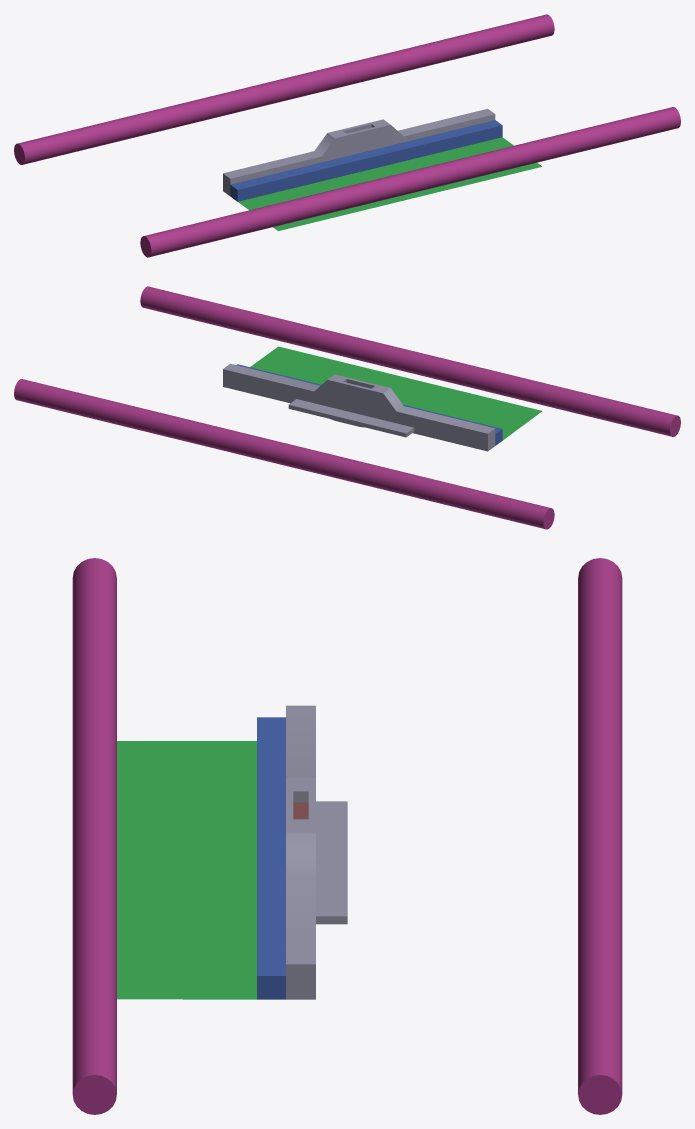
File: Bridge.fbx
The picture shows the model from 3 angles, top to bottom: view 1: azimuth 30°, elevation 25°; view 2: azimuth 150°, elevation 25°; view 3: azimuth 270°, elevation 25°; orthographic projection. The views are drawn at different scales.
Visible parts, largest first — view 1: pCylinder7, pPlane2; view 2: pCylinder7, pPlane2; view 3: pPlane2, pCylinder7.
Part boxes in pixels (x1,y1,x2,y2): pCylinder7: [14, 14, 680, 257]; pPlane2: [223, 108, 542, 230]; pCylinder7: [14, 286, 680, 529]; pPlane2: [223, 346, 541, 451]; pPlane2: [117, 705, 347, 999]; pCylinder7: [72, 558, 622, 1114].
Size of the model in its own units: 648 by 291 by 38.15.
